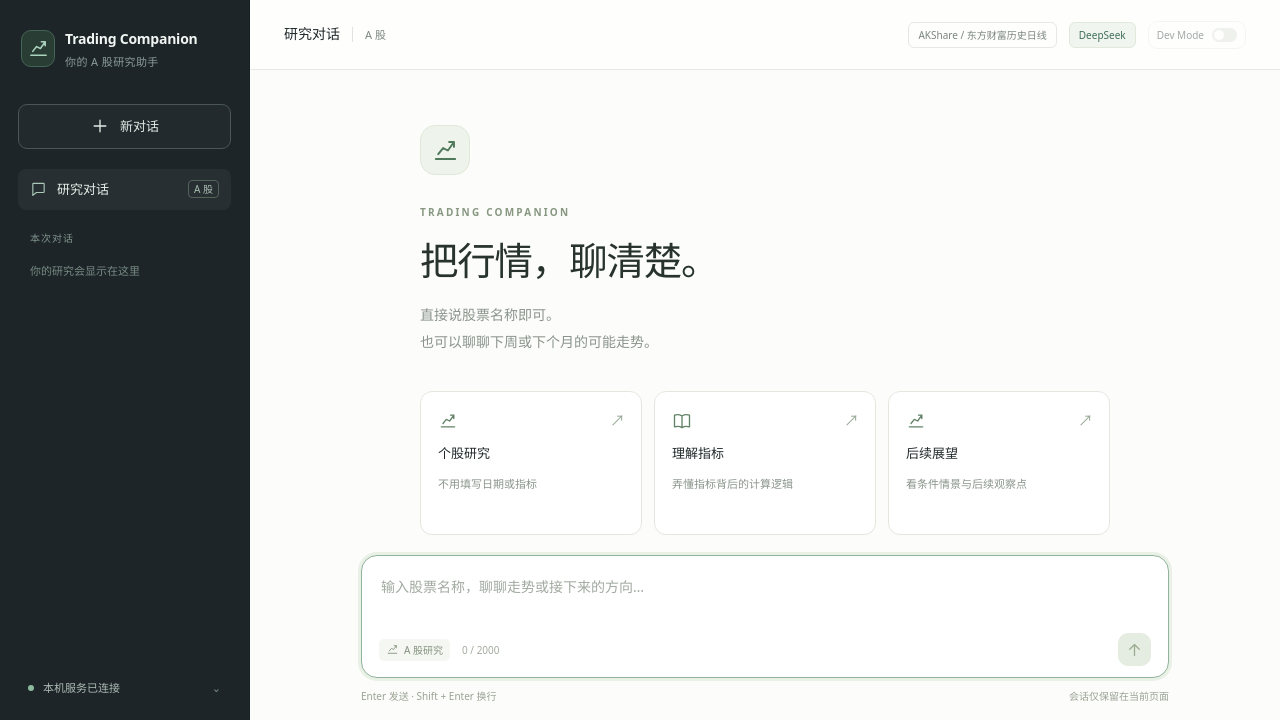
Test case: source-aware workspace › shows AKShare as the actual source and sends only after direct explicit submission
Type "分析平安银行" into the text box named "研究问题". click: (765, 599)
box: [379, 572, 1151, 626]
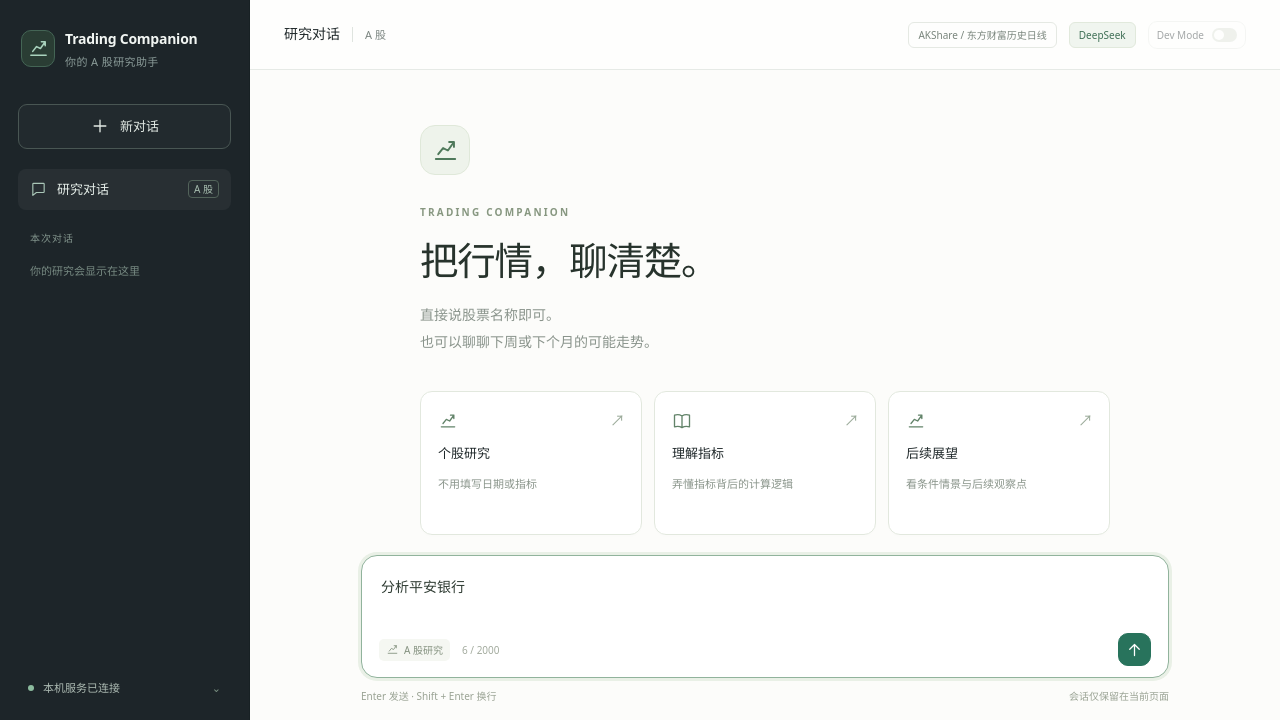
Click the button named "发送问题". click: (1134, 650)
box: [1118, 633, 1151, 666]
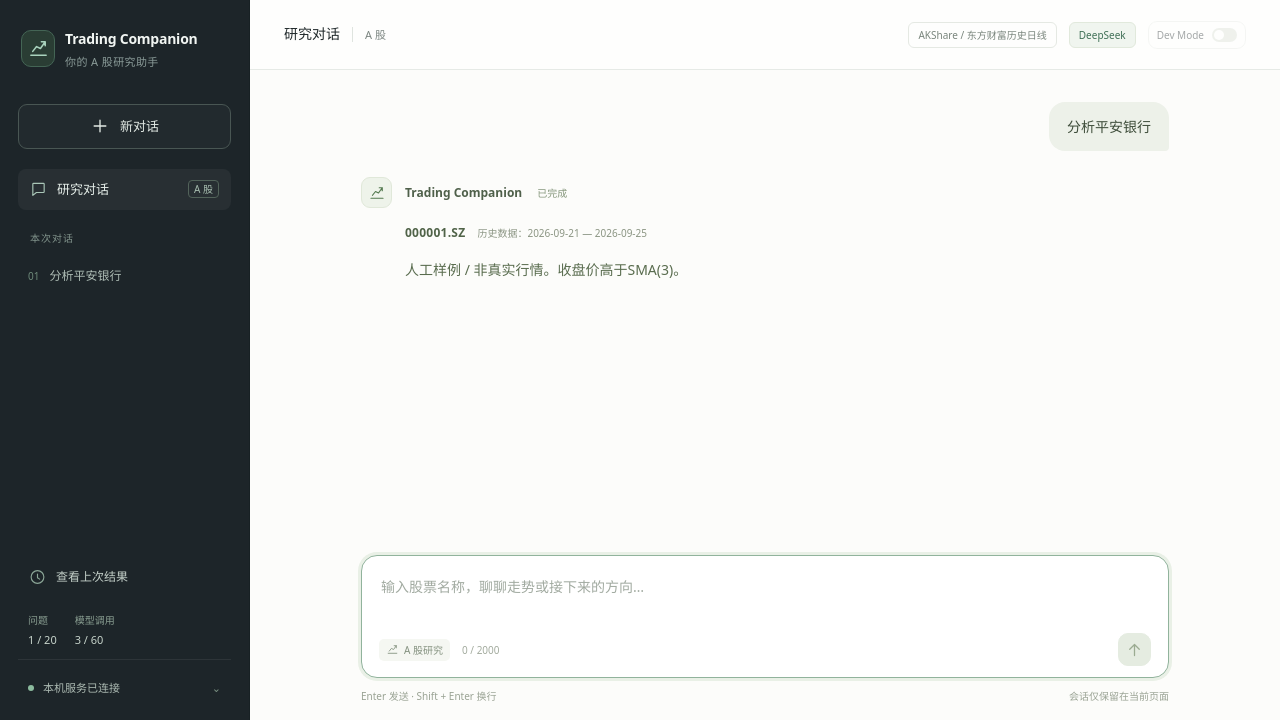
Check: the text "人工样例 / 非真实行情。收盘价高于SMA(3)。" is shown, box [405, 260, 687, 279]
